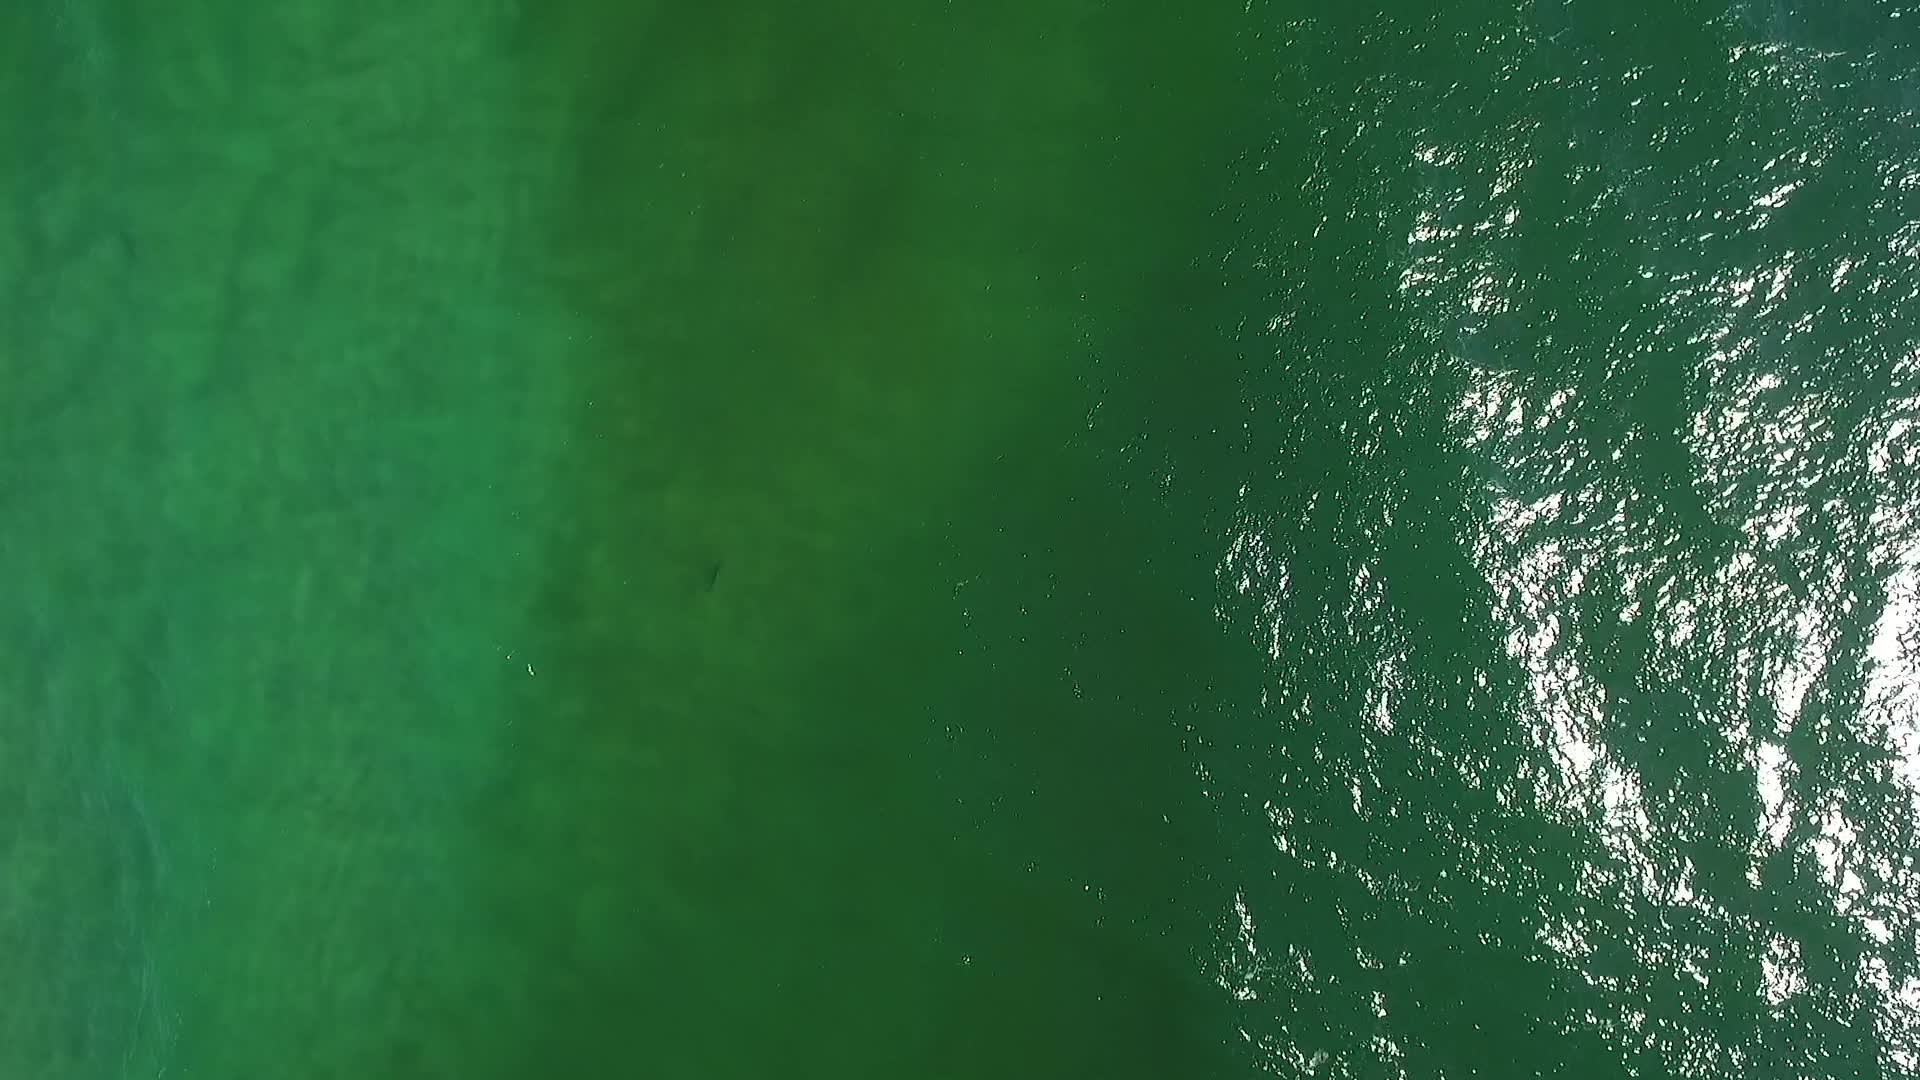shark: (702, 558, 728, 595)
